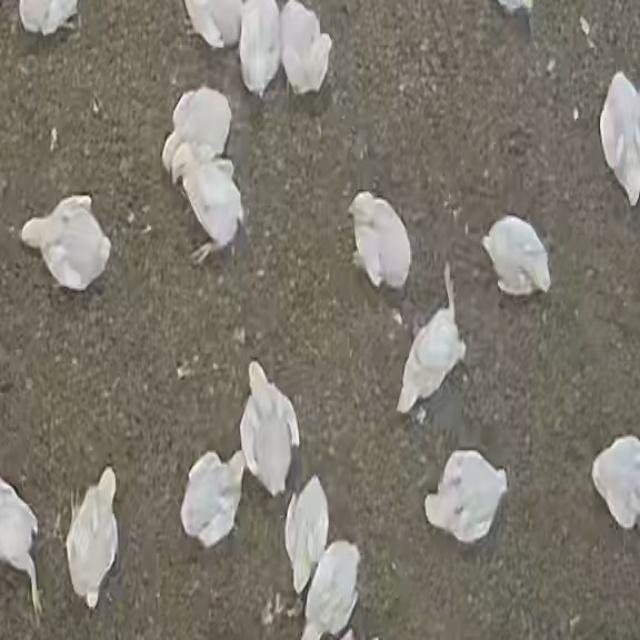chicken: (165, 135, 243, 263), (397, 269, 464, 416), (23, 193, 115, 291), (239, 360, 300, 498), (65, 468, 121, 613), (426, 450, 508, 544), (345, 190, 415, 293), (165, 84, 234, 184), (181, 450, 246, 550), (300, 540, 361, 639), (481, 214, 552, 298), (286, 470, 330, 596), (599, 71, 640, 203), (279, 0, 331, 97), (238, 0, 282, 97)
